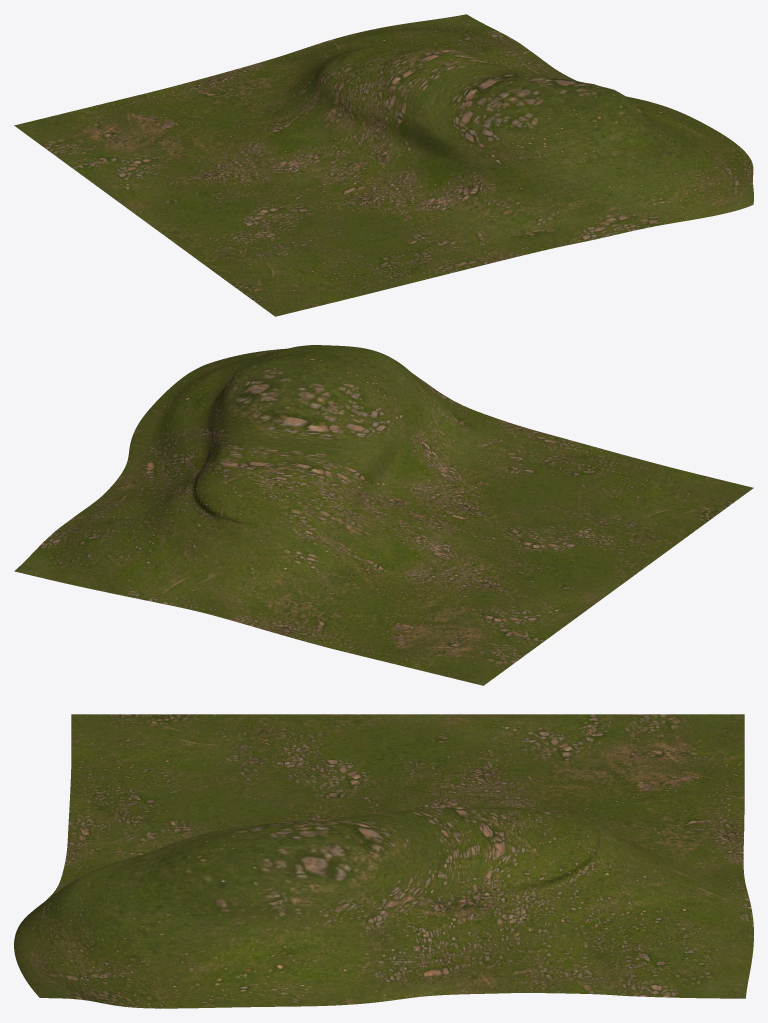
File: terrenolocura.fbx
The picture shows the model from 3 angles, top to bottom: view 1: azimuth 30°, elevation 25°; view 2: azimuth 150°, elevation 25°; view 3: azimuth 270°, elevation 25°; orthographic projection. The views are drawn at different scales.
Visible parts, largest first — view 1: Plane; view 2: Plane; view 3: Plane.
Boxes of the visible parts, x1,y1,x2,y2 form: Plane: [14, 14, 753, 316]; Plane: [14, 345, 753, 685]; Plane: [14, 714, 753, 1008].
Bounding box in the file's own units: 4460 × 634 × 4397.
